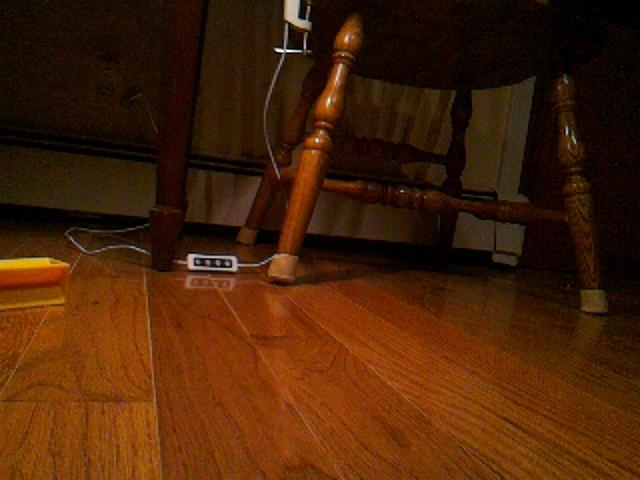yellow: (1, 255, 71, 312)
